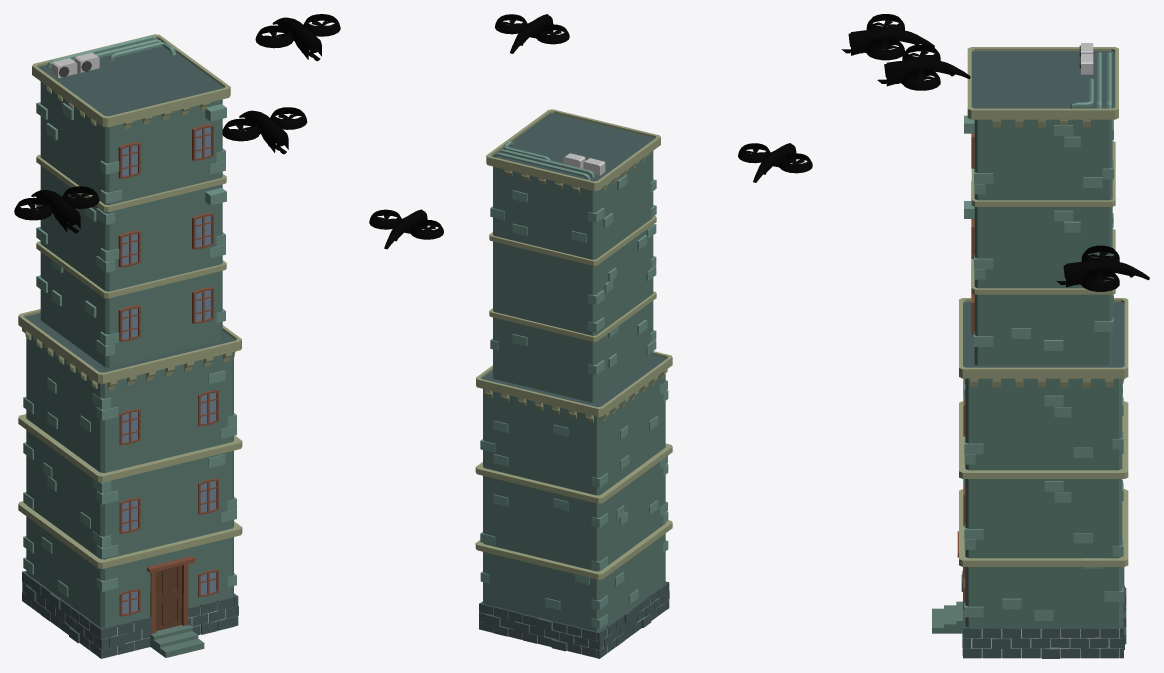
File: 6 story building.glb
The picture shows the model from 3 angles, left to right: view 1: azimuth 30°, elevation 25°; view 2: azimuth 150°, elevation 25°; view 3: azimuth 270°, elevation 25°; orthographic projection. The views are drawn at different scales.
Parts seen in each view (by area): view 1: 6Story_Stack_Mat, PA_Drone.001, PA_Drone.002, PA_Drone, PA_DroneWingLeft, PA_DroneWingLeft.002, PA_DroneWingLeft.001, PA_DroneWingRight.001, PA_DroneWingRight.002, PA_DroneWingRight; view 2: 6Story_Stack_Mat; view 3: 6Story_Stack_Mat, PA_Drone, PA_Drone.002, PA_Drone.001, PA_DroneWingRight.002, PA_DroneWingRight, PA_DroneWingRight.001.
Part boxes in pixels (x1=…): 6Story_Stack_Mat: x1=18, y1=34, x2=242, y2=658; PA_Drone.001: x1=31, y1=189, x2=80, y2=233; PA_Drone.002: x1=239, y1=110, x2=288, y2=154; PA_Drone: x1=272, y1=17, x2=321, y2=61; PA_DroneWingLeft: x1=255, y1=25, x2=293, y2=48; PA_DroneWingLeft.002: x1=222, y1=118, x2=260, y2=141; PA_DroneWingLeft.001: x1=14, y1=197, x2=52, y2=220; PA_DroneWingRight.001: x1=62, y1=186, x2=99, y2=208; PA_DroneWingRight.002: x1=270, y1=107, x2=307, y2=129; PA_DroneWingRight: x1=303, y1=14, x2=340, y2=36; 6Story_Stack_Mat: x1=475, y1=109, x2=672, y2=658; 6Story_Stack_Mat: x1=932, y1=43, x2=1128, y2=658; PA_Drone: x1=877, y1=59, x2=970, y2=86; PA_Drone.002: x1=1056, y1=260, x2=1149, y2=287; PA_Drone.001: x1=841, y1=28, x2=934, y2=55; PA_DroneWingRight.002: x1=1081, y1=269, x2=1119, y2=291; PA_DroneWingRight: x1=902, y1=68, x2=940, y2=90; PA_DroneWingRight.001: x1=866, y1=37, x2=904, y2=60.
Size of the model in its own units: 5.88 by 8.68 by 3.93.
